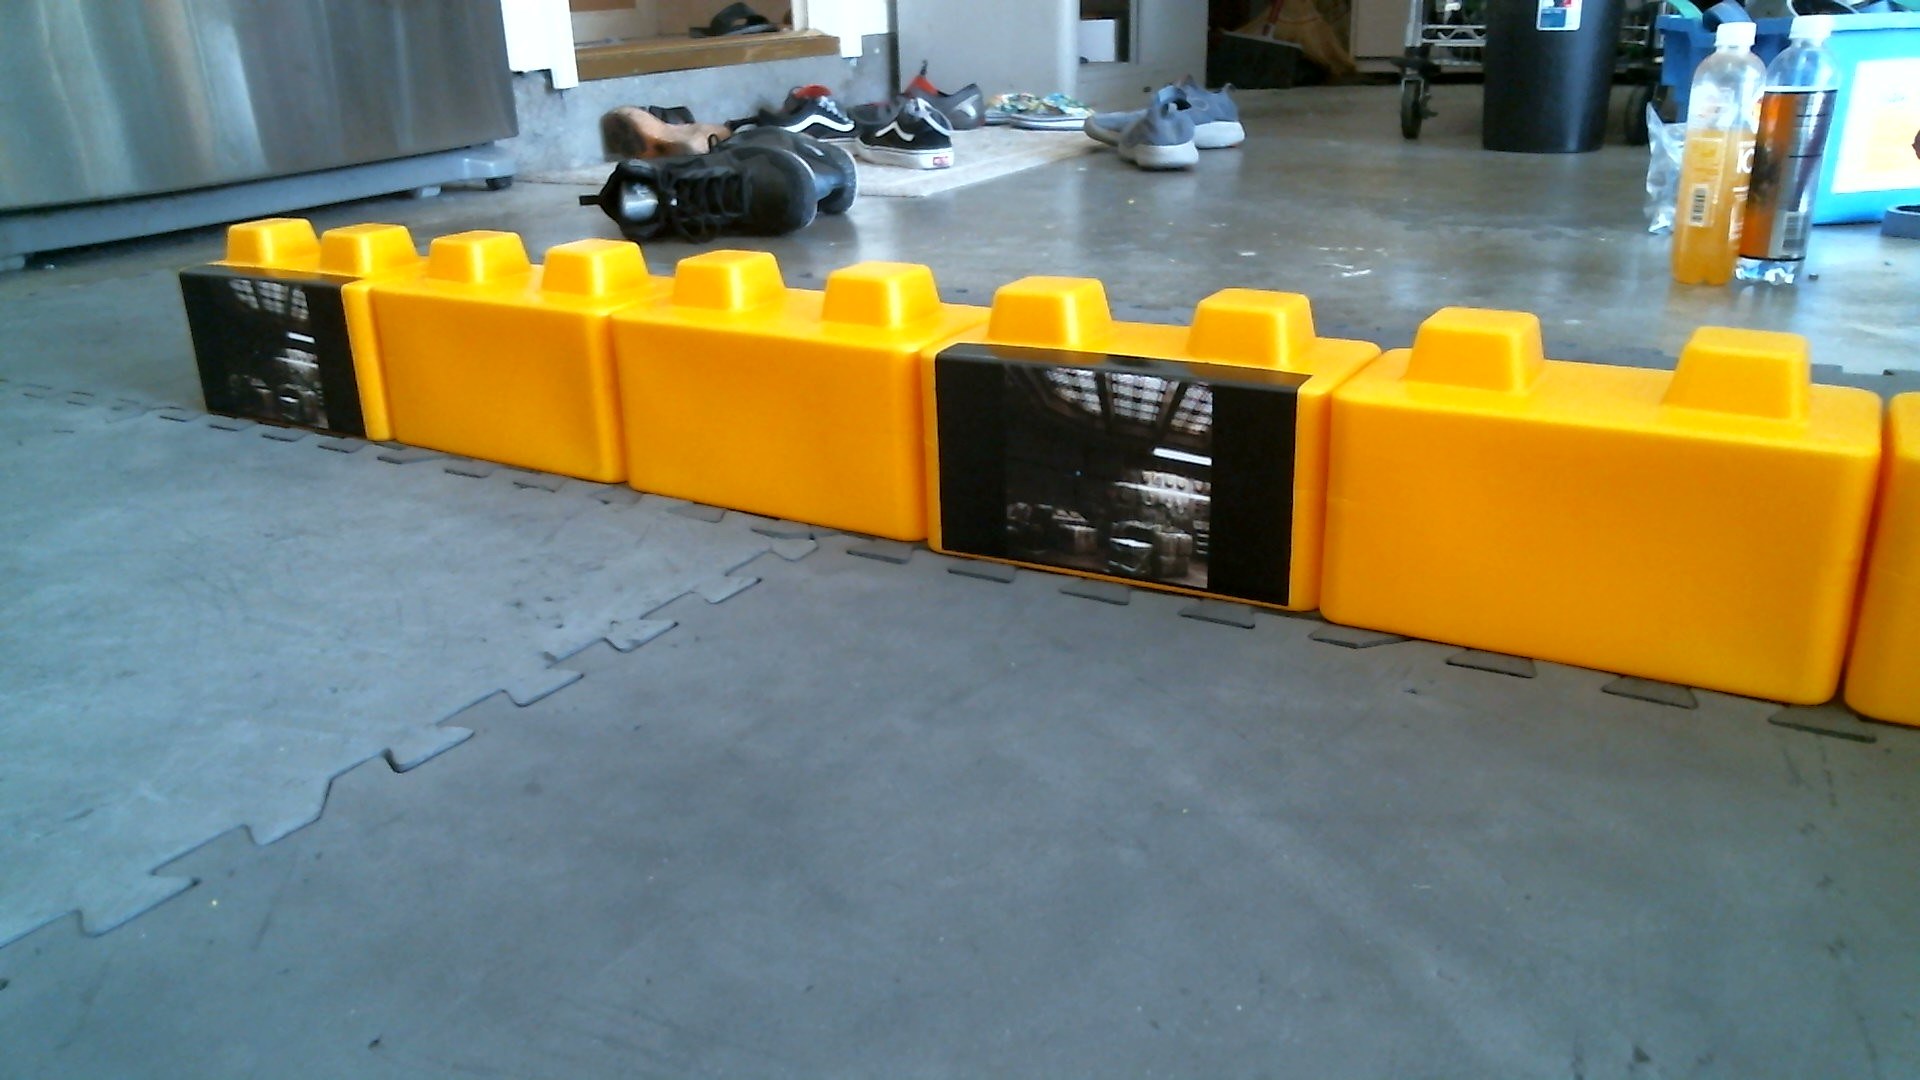skystone: (928, 273, 1305, 618), (175, 218, 411, 454)
stone: (1328, 305, 1873, 736), (615, 247, 930, 545), (376, 224, 637, 491)
